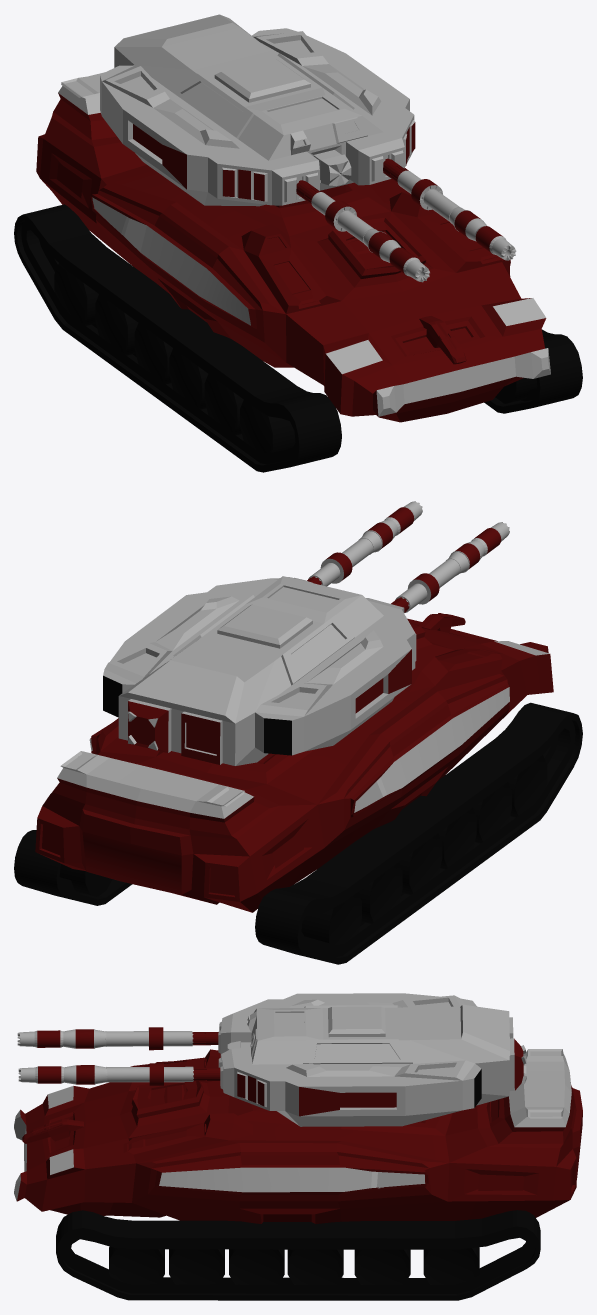
Rendered from EnemyTank2_FBX.fbx.
3 views of the same model, one above another, from view 1: azimuth 30°, elevation 25°; view 2: azimuth 150°, elevation 25°; view 3: azimuth 270°, elevation 25° (orthographic). The views are drawn at different scales.
Parts seen in each view (by area): view 1: Center, Top, Bottom; view 2: Center, Top, Bottom; view 3: Center, Top, Bottom.
Part boxes in pixels (left/top/right/bottom): Center: left=36, top=72, right=550, bottom=422; Top: left=100, top=14, right=516, bottom=282; Bottom: left=14, top=204, right=582, bottom=472; Center: left=35, top=613, right=553, bottom=912; Top: left=103, top=501, right=509, bottom=765; Bottom: left=14, top=702, right=582, bottom=964; Center: left=14, top=1049, right=582, bottom=1224; Top: left=17, top=993, right=526, bottom=1126; Bottom: left=56, top=1210, right=540, bottom=1300.
Size of the model in its own units: 16.06 by 14.25 by 32.86.
